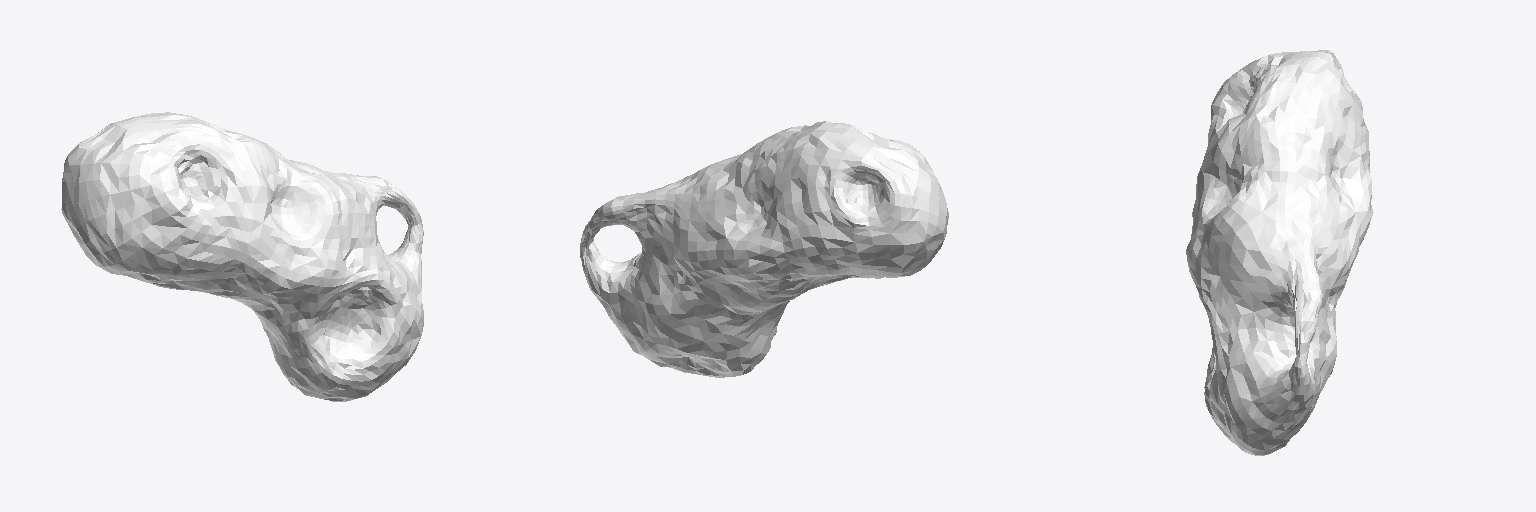
3 views of the same model, side by side, from view 1: azimuth 30°, elevation 25°; view 2: azimuth 150°, elevation 25°; view 3: azimuth 270°, elevation 25° (orthographic).
Parts seen in each view (by area): view 1: Group57342_defaultMat.003; view 2: Group57342_defaultMat.003; view 3: Group57342_defaultMat.003.
Part boxes in pixels (x1,y1,x2,y2): Group57342_defaultMat.003: (61, 112, 423, 401); Group57342_defaultMat.003: (580, 121, 948, 377); Group57342_defaultMat.003: (1186, 50, 1373, 455).
Bounding box in the file's own units: 2.48 × 2 × 1.13.